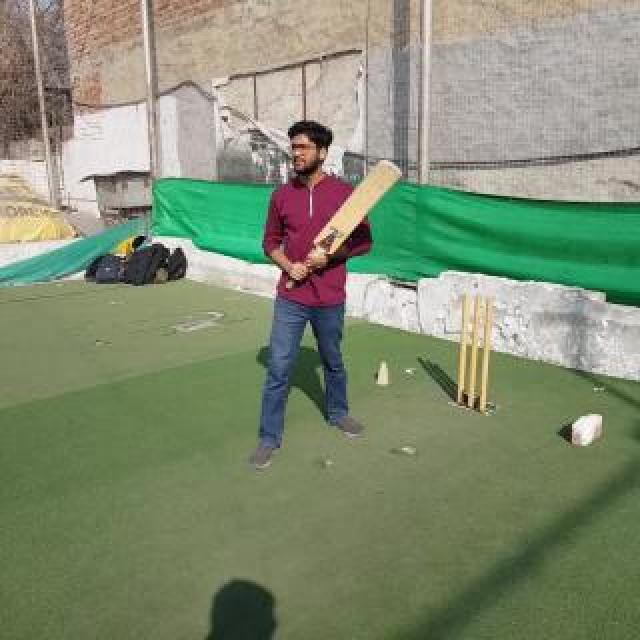bat: (286, 160, 404, 290)
